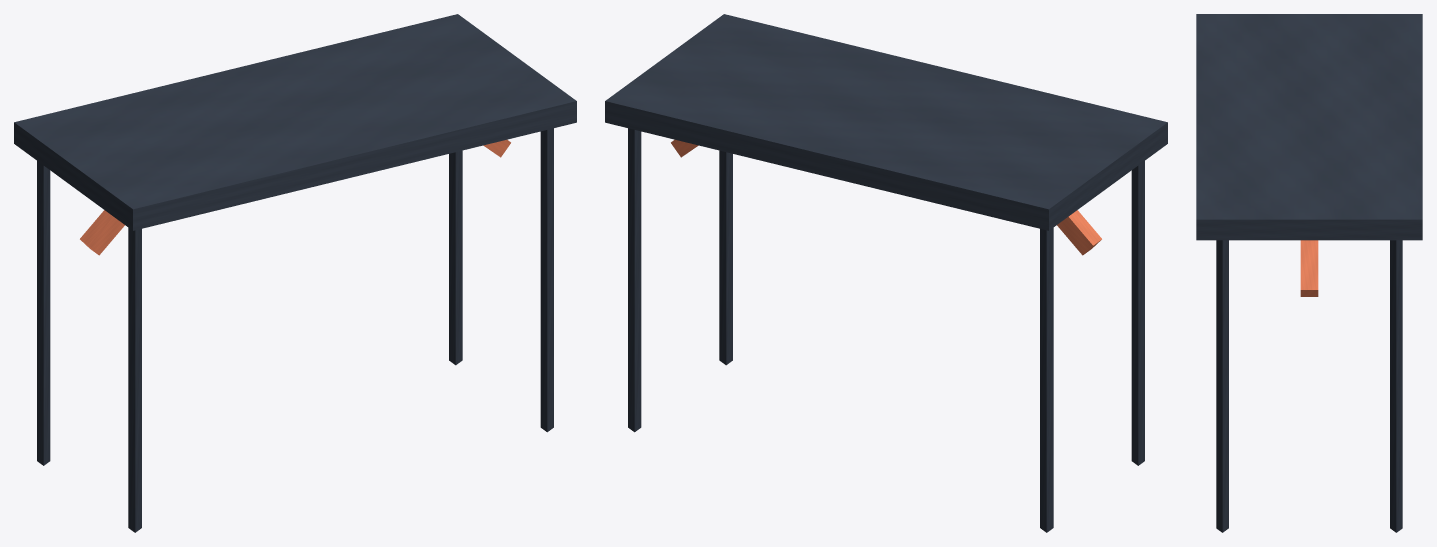
File: atlas100-s021-a08.lod2.glb
3 renders of one model, left to right at view 1: azimuth 30°, elevation 25°; view 2: azimuth 150°, elevation 25°; view 3: azimuth 270°, elevation 25°, orthographic. The views are drawn at different scales.
Visible parts, largest first — view 1: atlas100-s021-a08:part-010, atlas100-s021-a08:part-002, atlas100-s021-a08:part-006, atlas100-s021-a08:part-000, atlas100-s021-a08:part-004, atlas100-s021-a08:part-011; view 2: atlas100-s021-a08:part-010, atlas100-s021-a08:part-000, atlas100-s021-a08:part-004, atlas100-s021-a08:part-002, atlas100-s021-a08:part-006, atlas100-s021-a08:part-011; view 3: atlas100-s021-a08:part-010, atlas100-s021-a08:part-004, atlas100-s021-a08:part-006, atlas100-s021-a08:part-012.
Part boxes in pixels (left/top/right/bottom): atlas100-s021-a08:part-010: left=14, top=14, right=576, bottom=230; atlas100-s021-a08:part-002: left=128, top=228, right=141, bottom=532; atlas100-s021-a08:part-006: left=540, top=128, right=553, bottom=432; atlas100-s021-a08:part-000: left=37, top=161, right=50, bottom=465; atlas100-s021-a08:part-004: left=449, top=150, right=462, bottom=365; atlas100-s021-a08:part-011: left=80, top=210, right=124, bottom=255; atlas100-s021-a08:part-010: left=605, top=14, right=1167, bottom=230; atlas100-s021-a08:part-000: left=1040, top=228, right=1053, bottom=532; atlas100-s021-a08:part-004: left=628, top=128, right=641, bottom=432; atlas100-s021-a08:part-002: left=1131, top=161, right=1144, bottom=465; atlas100-s021-a08:part-006: left=719, top=150, right=732, bottom=365; atlas100-s021-a08:part-011: left=1057, top=210, right=1101, bottom=255; atlas100-s021-a08:part-010: left=1196, top=14, right=1422, bottom=240; atlas100-s021-a08:part-004: left=1390, top=240, right=1402, bottom=532; atlas100-s021-a08:part-006: left=1216, top=240, right=1228, bottom=532; atlas100-s021-a08:part-012: left=1300, top=240, right=1318, bottom=296.
Size of the model in its own units: 5.6 by 4.03 by 2.6.
Materials: 2 (2 with a texture image).
